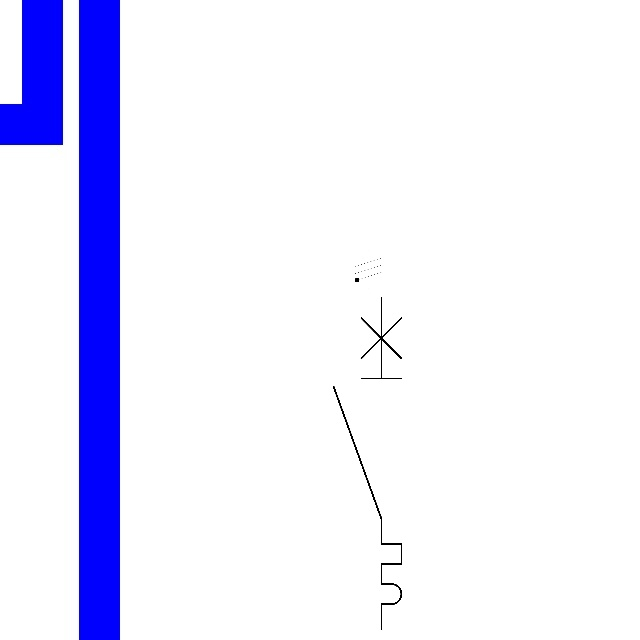interruptor_termomagnetico: (325, 289, 410, 638)
